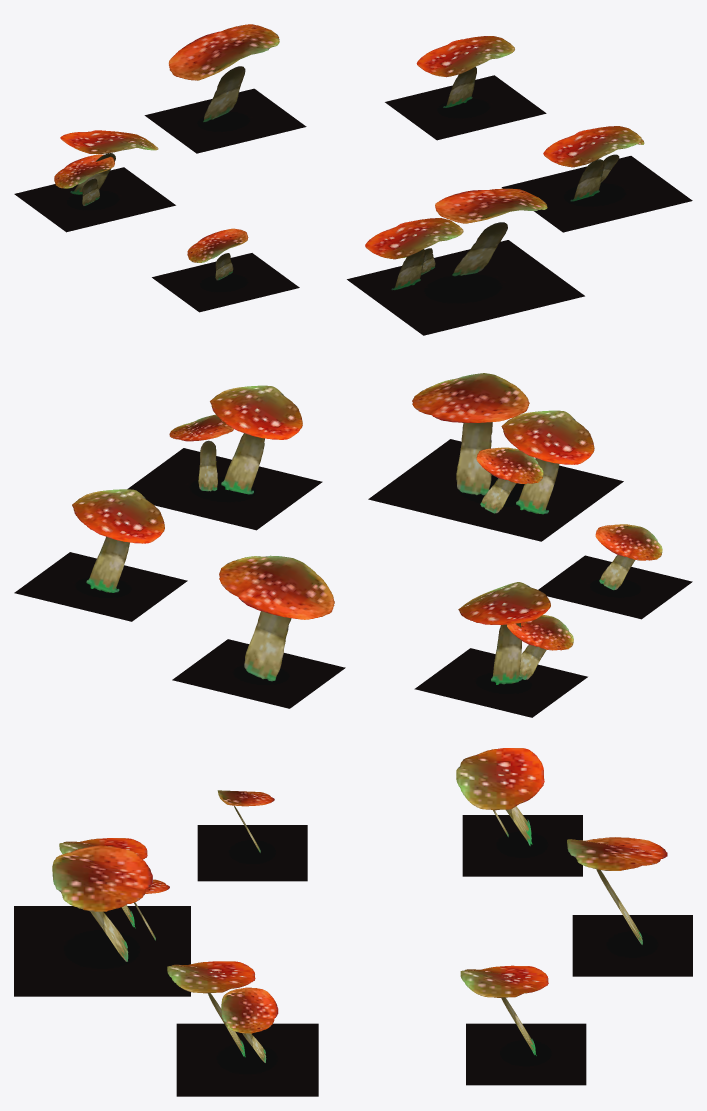
File: Gimmick_FairyCircle.fbx
3 renders of one model, top to bottom at view 1: azimuth 30°, elevation 25°; view 2: azimuth 150°, elevation 25°; view 3: azimuth 270°, elevation 25°, orthographic. The views are drawn at different scales.
Visible parts, largest first — view 1: Gimmick_FairyCircle; view 2: Gimmick_FairyCircle; view 3: Gimmick_FairyCircle.
Part boxes in pixels (x1=…): Gimmick_FairyCircle: x1=14, y1=24, x2=692, y2=335; Gimmick_FairyCircle: x1=14, y1=373, x2=692, y2=717; Gimmick_FairyCircle: x1=14, y1=748, x2=692, y2=1096.
Bounding box in the file's own units: 1.69 × 0.3067 × 1.73.
